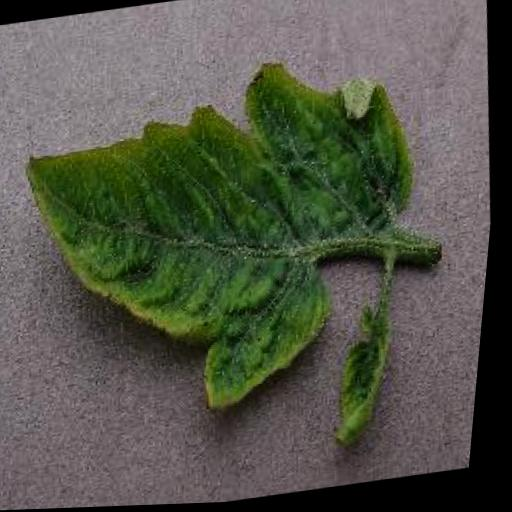Yellow Leaf Curl Virus: (0, 45, 446, 441), (324, 307, 412, 458)
